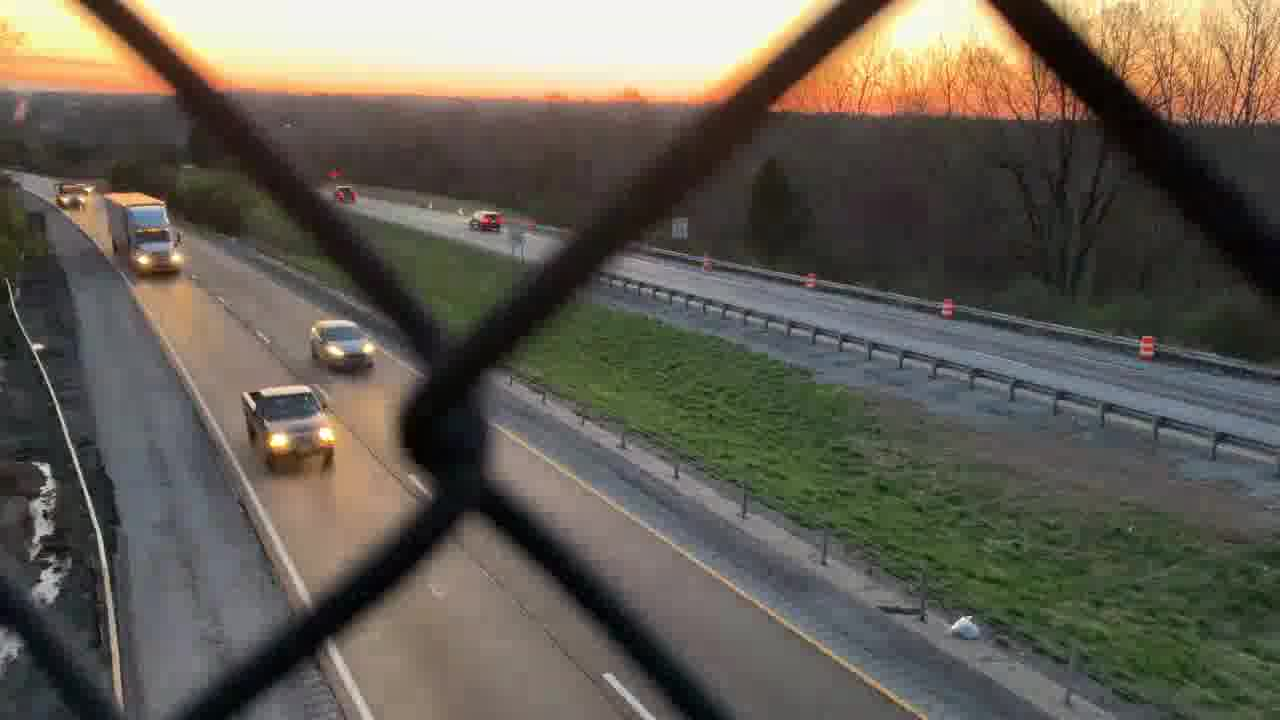heavyTruck: (101, 188, 190, 282)
largeCar: (469, 206, 505, 232)
lightTruck: (233, 379, 342, 476)
smallCar: (306, 319, 381, 375)
vehicle: (55, 178, 86, 217), (323, 188, 360, 205)
